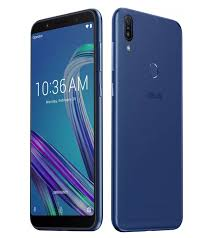asus: (109, 5, 186, 234), (28, 5, 105, 232)
